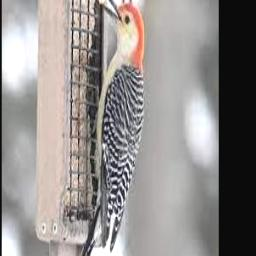Woodpecker: (76, 0, 144, 256)
